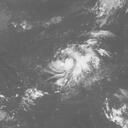cyclone: (47, 43, 100, 87)
